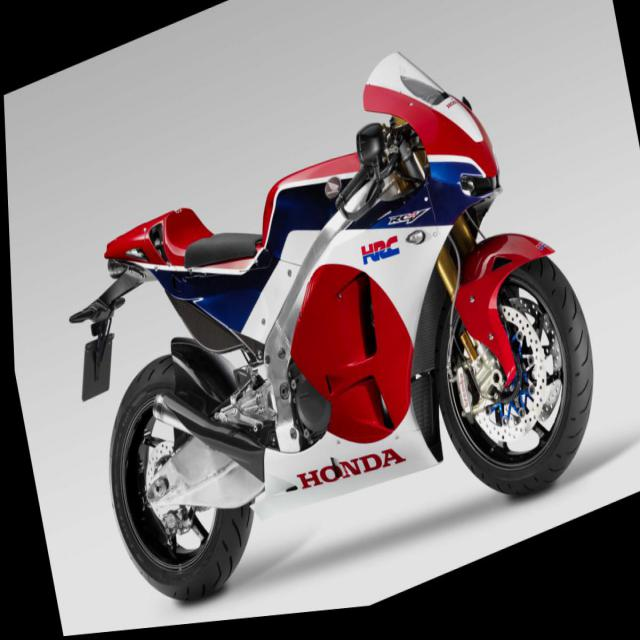HRC RCV 213: (38, 0, 613, 636)
